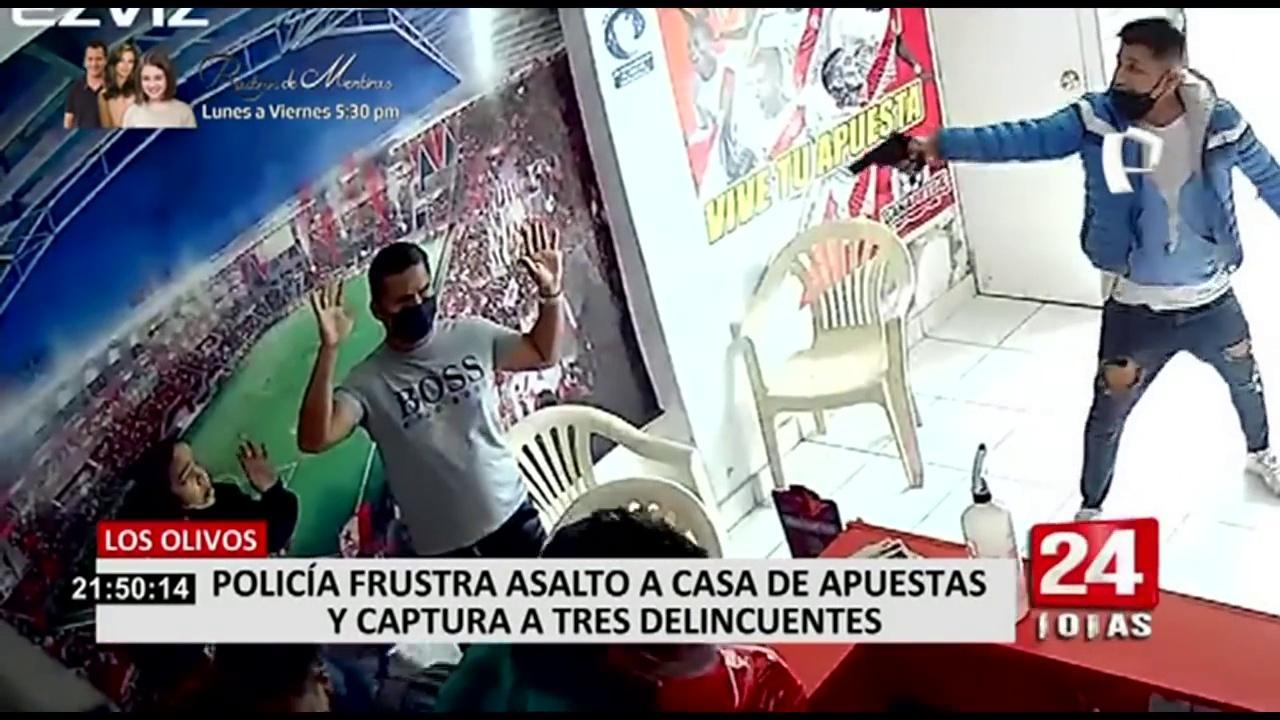Guns: (834, 115, 938, 190)
